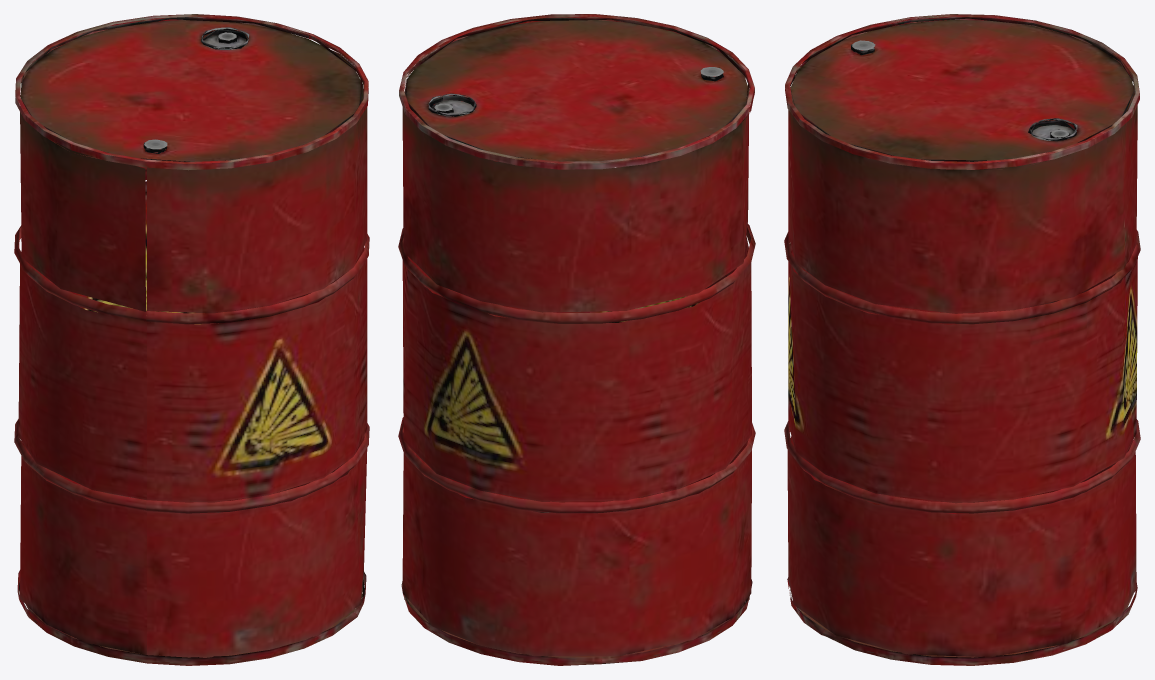
Rendered from barrel_red.glb.
3 views of the same model, side by side, from view 1: azimuth 30°, elevation 25°; view 2: azimuth 150°, elevation 25°; view 3: azimuth 270°, elevation 25° (orthographic).
Visible parts, largest first — view 1: barrel_red; view 2: barrel_red; view 3: barrel_red.
Boxes of the visible parts, left/top/right/bottom form: barrel_red: left=14, top=14, right=369, bottom=665; barrel_red: left=398, top=14, right=755, bottom=665; barrel_red: left=784, top=14, right=1140, bottom=665.
Bounding box in the file's own units: 0.5638 × 0.8819 × 0.5638.
1 material, 1 textured.
